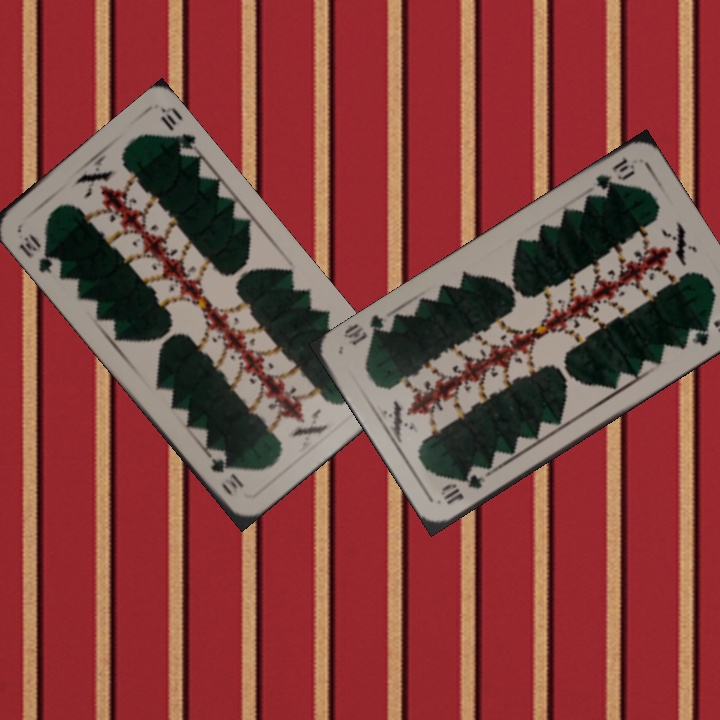G10: (15, 229, 59, 277), (436, 470, 488, 508), (591, 154, 638, 194)
